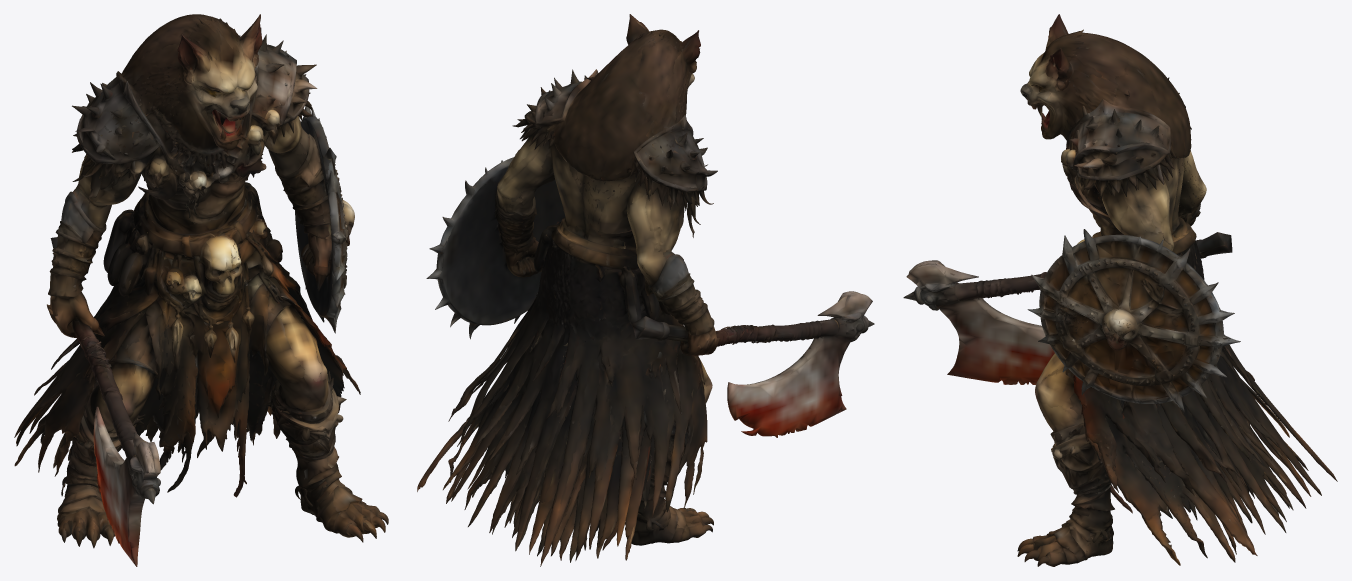
File: gnoll.glb
The picture shows the model from 3 angles, left to right: view 1: azimuth 30°, elevation 25°; view 2: azimuth 150°, elevation 25°; view 3: azimuth 270°, elevation 25°; orthographic projection. The views are drawn at different scales.
Visible parts, largest first — view 1: material; view 2: material; view 3: material.
Boxes of the visible parts, box(x1,y1,x2,y2) form: material: box(14, 14, 388, 566); material: box(417, 14, 874, 566); material: box(903, 14, 1337, 566).
Size of the model in its own units: 0.6346 by 0.9613 by 0.8009.
Materials: 1 (1 with a texture image).
